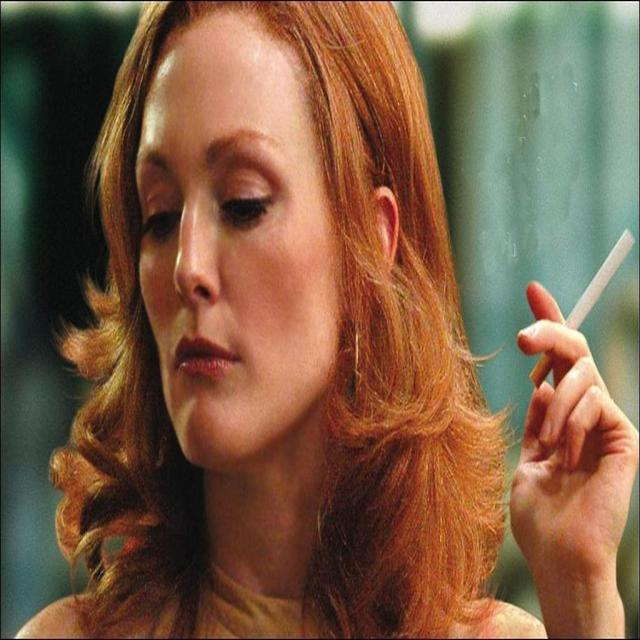smoking: (129, 8, 636, 513)
